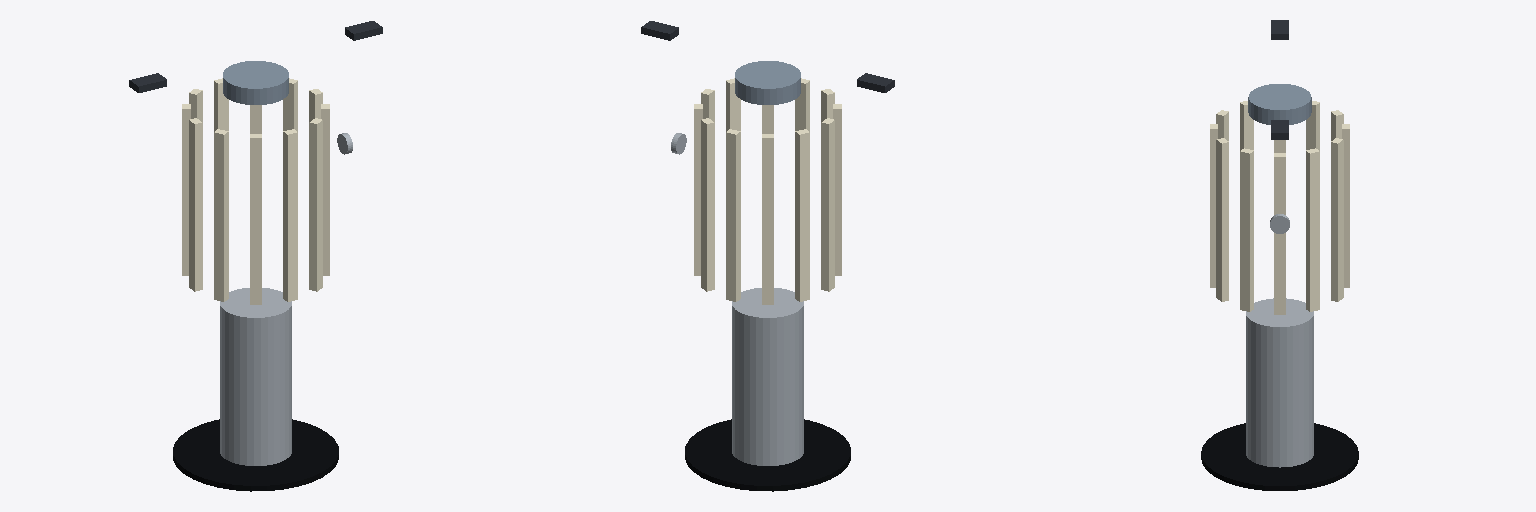
robot.urdf — bedside_air_purifier:
<robot name="bedside_air_purifier">
  <material name="shell_white">
    <color rgba="0.94 0.95 0.96 1" />
    </material>
  <material name="cap_charcoal">
    <color rgba="0.23 0.25 0.28 1" />
    </material>
  <material name="rubber_black">
    <color rgba="0.08 0.09 0.1 1" />
    </material>
  <material name="filter_cream">
    <color rgba="0.95 0.93 0.84 1" />
    </material>
  <material name="handle_bluegray">
    <color rgba="0.56 0.62 0.68 1" />
    </material>
  <material name="accent_gray">
    <color rgba="0.7 0.73 0.76 1" />
    </material>
  <link name="tower_body">
    <inertial>
      <origin xyz="0 0 0.139" rpy="0 0 0" />
      <mass value="1.8" />
      <inertia ixx="0.0137976" ixy="0" ixz="0" iyy="0.0137976" iyz="0" izz="0.00441" />
      </inertial>
    <visual name="tower_shell">
      <geometry>
        <mesh filename="assets/meshes/purifier_tower_shell.obj" />
        </geometry>
      <material name="shell_white">
        <color rgba="0.94 0.95 0.96 1" />
        </material>
      </visual>
    <visual name="base_pad">
      <origin xyz="0 0 0.002" rpy="0 0 0" />
      <geometry>
        <cylinder radius="0.055" length="0.004" />
        </geometry>
      <material name="rubber_black">
        <color rgba="0.08 0.09 0.1 1" />
        </material>
      </visual>
    <visual name="filter_support_pedestal">
      <origin xyz="0 0 0.056" rpy="0 0 0" />
      <geometry>
        <cylinder radius="0.024" length="0.112" />
        </geometry>
      <material name="accent_gray">
        <color rgba="0.7 0.73 0.76 1" />
        </material>
      </visual>
    <visual name="control_button">
      <origin xyz="0.068 0 0.212" rpy="0 1.5708 0" />
      <geometry>
        <cylinder radius="0.007" length="0.004" />
        </geometry>
      <material name="accent_gray">
        <color rgba="0.7 0.73 0.76 1" />
        </material>
      </visual>
    </link>
  <link name="top_cap">
    <inertial>
      <origin xyz="0 0 0.002" rpy="0 0 0" />
      <mass value="0.18" />
      <inertia ixx="0.000261765" ixy="0" ixz="0" iyy="0.000261765" iyz="0" izz="0.00050625" />
      </inertial>
    <visual name="cap_shell">
      <geometry>
        <mesh filename="assets/meshes/purifier_cap_shell.obj" />
        </geometry>
      <material name="cap_charcoal">
        <color rgba="0.23 0.25 0.28 1" />
        </material>
      </visual>
    <visual name="grip_tab_right">
      <origin xyz="0.082 0 0.013" rpy="0 0 0" />
      <geometry>
        <box size="0.022 0.012 0.005" />
        </geometry>
      <material name="cap_charcoal">
        <color rgba="0.23 0.25 0.28 1" />
        </material>
      </visual>
    <visual name="grip_tab_left">
      <origin xyz="-0.082 0 0.013" rpy="0 0 0" />
      <geometry>
        <box size="0.022 0.012 0.005" />
        </geometry>
      <material name="cap_charcoal">
        <color rgba="0.23 0.25 0.28 1" />
        </material>
      </visual>
    </link>
  <link name="filter_cartridge">
    <inertial>
      <origin xyz="0 0 -0.07" rpy="0 0 0" />
      <mass value="0.25" />
      <inertia ixx="0.000689583" ixy="0" ixz="0" iyy="0.000689583" iyz="0" izz="0.0003125" />
      </inertial>
    <visual name="filter_shell">
      <geometry>
        <mesh filename="assets/meshes/purifier_filter_shell.obj" />
        </geometry>
      <material name="filter_cream">
        <color rgba="0.95 0.93 0.84 1" />
        </material>
      </visual>
    <visual name="pleat_rib_00">
      <origin xyz="0.046 0 -0.072" rpy="0 0 0" />
      <geometry>
        <box size="0.006 0.008 0.122" />
        </geometry>
      <material name="filter_cream">
        <color rgba="0.95 0.93 0.84 1" />
        </material>
      </visual>
    <visual name="pleat_rib_01">
      <origin xyz="0.0398372 0.023 -0.072" rpy="0 0 0.523599" />
      <geometry>
        <box size="0.006 0.008 0.122" />
        </geometry>
      <material name="filter_cream">
        <color rgba="0.95 0.93 0.84 1" />
        </material>
      </visual>
    <visual name="pleat_rib_02">
      <origin xyz="0.023 0.0398372 -0.072" rpy="0 0 1.0472" />
      <geometry>
        <box size="0.006 0.008 0.122" />
        </geometry>
      <material name="filter_cream">
        <color rgba="0.95 0.93 0.84 1" />
        </material>
      </visual>
    <visual name="pleat_rib_03">
      <origin xyz="2.81669e-18 0.046 -0.072" rpy="0 0 1.5708" />
      <geometry>
        <box size="0.006 0.008 0.122" />
        </geometry>
      <material name="filter_cream">
        <color rgba="0.95 0.93 0.84 1" />
        </material>
      </visual>
    <visual name="pleat_rib_04">
      <origin xyz="-0.023 0.0398372 -0.072" rpy="0 0 2.0944" />
      <geometry>
        <box size="0.006 0.008 0.122" />
        </geometry>
      <material name="filter_cream">
        <color rgba="0.95 0.93 0.84 1" />
        </material>
      </visual>
    <visual name="pleat_rib_05">
      <origin xyz="-0.0398372 0.023 -0.072" rpy="0 0 2.61799" />
      <geometry>
        <box size="0.006 0.008 0.122" />
        </geometry>
      <material name="filter_cream">
        <color rgba="0.95 0.93 0.84 1" />
        </material>
      </visual>
    <visual name="pleat_rib_06">
      <origin xyz="-0.046 5.63338e-18 -0.072" rpy="0 0 3.14159" />
      <geometry>
        <box size="0.006 0.008 0.122" />
        </geometry>
      <material name="filter_cream">
        <color rgba="0.95 0.93 0.84 1" />
        </material>
      </visual>
    <visual name="pleat_rib_07">
      <origin xyz="-0.0398372 -0.023 -0.072" rpy="0 0 3.66519" />
      <geometry>
        <box size="0.006 0.008 0.122" />
        </geometry>
      <material name="filter_cream">
        <color rgba="0.95 0.93 0.84 1" />
        </material>
      </visual>
    <visual name="pleat_rib_08">
      <origin xyz="-0.023 -0.0398372 -0.072" rpy="0 0 4.18879" />
      <geometry>
        <box size="0.006 0.008 0.122" />
        </geometry>
      <material name="filter_cream">
        <color rgba="0.95 0.93 0.84 1" />
        </material>
      </visual>
    <visual name="pleat_rib_09">
      <origin xyz="-8.45006e-18 -0.046 -0.072" rpy="0 0 4.71239" />
      <geometry>
        <box size="0.006 0.008 0.122" />
        </geometry>
      <material name="filter_cream">
        <color rgba="0.95 0.93 0.84 1" />
        </material>
      </visual>
    <visual name="pleat_rib_10">
      <origin xyz="0.023 -0.0398372 -0.072" rpy="0 0 5.23599" />
      <geometry>
        <box size="0.006 0.008 0.122" />
        </geometry>
      <material name="filter_cream">
        <color rgba="0.95 0.93 0.84 1" />
        </material>
      </visual>
    <visual name="pleat_rib_11">
      <origin xyz="0.0398372 -0.023 -0.072" rpy="0 0 5.75959" />
      <geometry>
        <box size="0.006 0.008 0.122" />
        </geometry>
      <material name="filter_cream">
        <color rgba="0.95 0.93 0.84 1" />
        </material>
      </visual>
    <visual name="pull_hub">
      <origin xyz="0 0 0.006" rpy="0 0 0" />
      <geometry>
        <cylinder radius="0.022" length="0.012" />
        </geometry>
      <material name="handle_bluegray">
        <color rgba="0.56 0.62 0.68 1" />
        </material>
      </visual>
    <visual name="pull_handle">
      <geometry>
        <mesh filename="assets/meshes/purifier_filter_handle.obj" />
        </geometry>
      <material name="handle_bluegray">
        <color rgba="0.56 0.62 0.68 1" />
        </material>
      </visual>
    </link>
  <joint name="cap_unlock" type="revolute">
    <origin xyz="0 0 0.278" rpy="0 0 0" />
    <parent link="tower_body" />
    <child link="top_cap" />
    <axis xyz="0 0 1" />
    <limit effort="1" velocity="2" lower="0" upper="0.488692" />
    </joint>
  <joint name="filter_slide" type="prismatic">
    <origin xyz="0 0 0.266" rpy="0 0 0" />
    <parent link="tower_body" />
    <child link="filter_cartridge" />
    <axis xyz="0 0 1" />
    <limit effort="8" velocity="0.12" lower="0" upper="0.105" />
    </joint>
  </robot>

--- Render facts (derived) ---
3 views of the same robot in one strip: view 1: azimuth 30°, elevation 25°; view 2: azimuth 150°, elevation 25°; view 3: azimuth 270°, elevation 25° (orthographic).
Model bedside_air_purifier with 3 links and 2 joints (1 revolute, 1 prismatic), rooted at tower_body, posed every joint at zero.
Visible links, largest first — view 1: filter_cartridge, tower_body, top_cap; view 2: filter_cartridge, tower_body, top_cap; view 3: tower_body, filter_cartridge, top_cap.
Link boxes in pixels (box(x1,y1,x2,y2)): filter_cartridge: box(182, 61, 329, 304); tower_body: box(173, 133, 352, 491); top_cap: box(129, 21, 382, 92); filter_cartridge: box(694, 61, 841, 304); tower_body: box(671, 133, 850, 491); top_cap: box(641, 21, 894, 92); tower_body: box(1201, 214, 1358, 490); filter_cartridge: box(1210, 84, 1349, 314); top_cap: box(1271, 20, 1288, 139).
Size in the robot's own frame: 0.186 by 0.11 by 0.2935 metres.
Meshes: 4 distinct files referenced, 0 mesh visuals loaded (none loaded); not drawn: 4 (reference not matched to a file when rendering).
